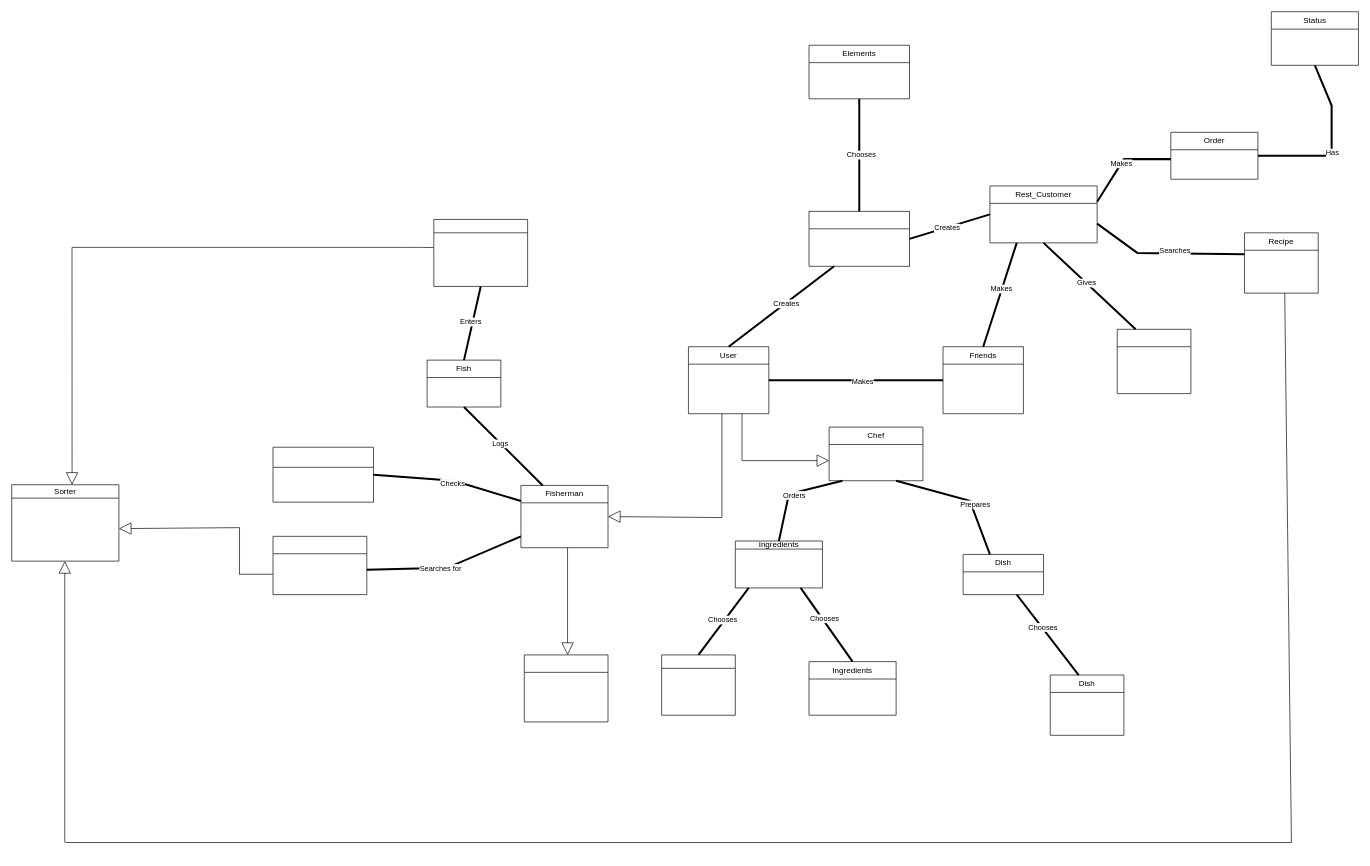
The diagram is 1370 pixels wide and 866 high, and some of its shapes have lost their labels. Here are the shapes that lost their labels. From the top down, the centre of each, then its label:
the point at 480,252: Info
the point at 859,238: Profile
the point at 1154,361: Rating
the point at 323,474: Weather
the point at 319,565: Bait
the point at 566,688: Fishing_Expertise
the point at 698,684: Producer
